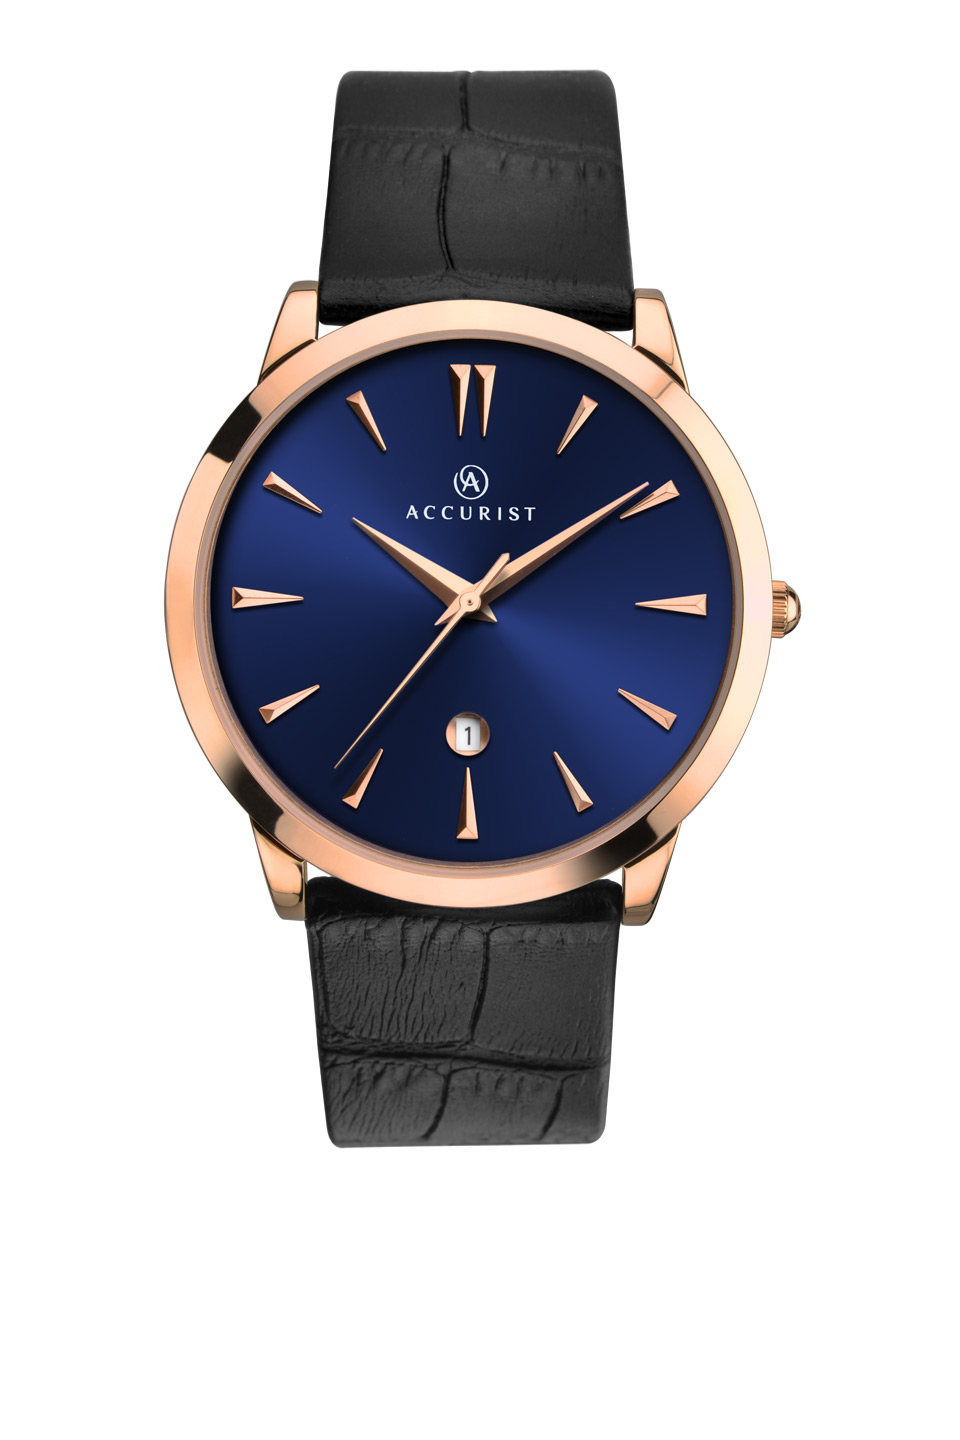clock: (166, 301, 776, 905)
